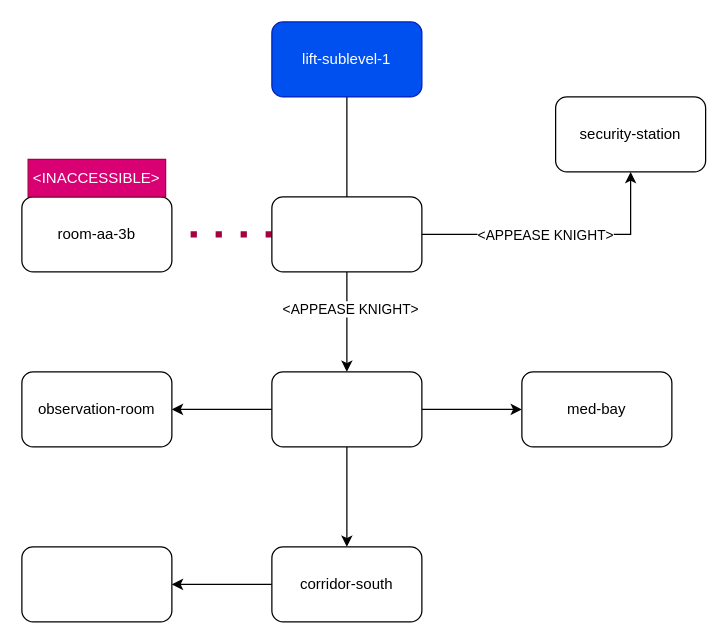
The diagram is 728 pixels wide and 644 high, and some of its shapes have lost their labels. The shapes that lost their labels are listed below. From the top down, each one's centre as x and y in pixels, then its label:
At pixel 346 234: "sublevel-1-entrance".
At pixel 346 409: "corridor-north".
At pixel 96 584: "monolith-room".
